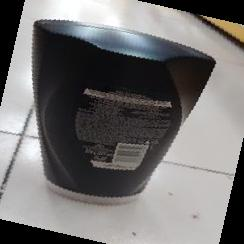sunsilk black: (30, 17, 217, 210)
